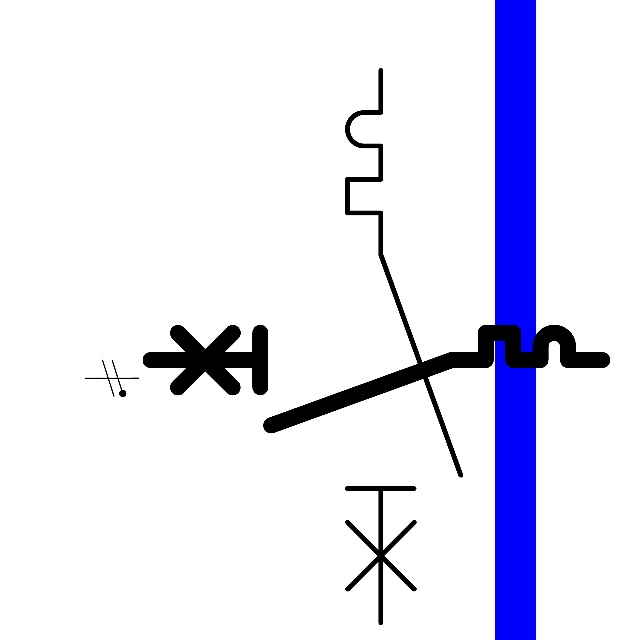interruptor_termomagnetico: (333, 56, 475, 637), (138, 321, 614, 437)
